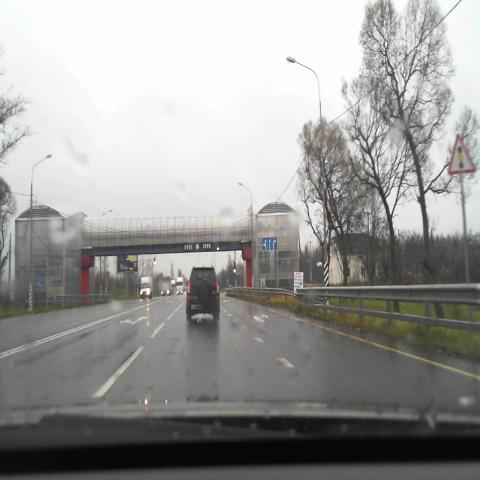1_8: (448, 134, 476, 176)
